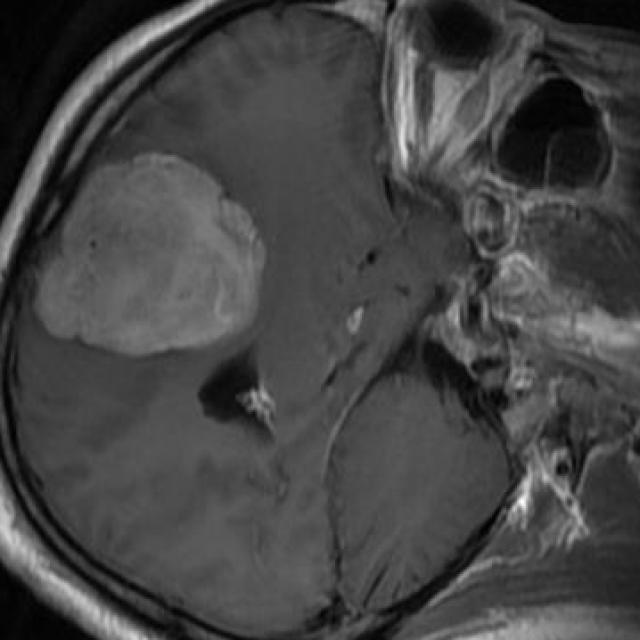meningioma: (36, 153, 264, 355)
